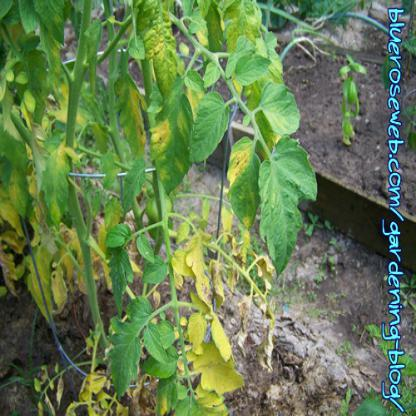tomato leaf yellow virus: (254, 134, 319, 283), (151, 71, 203, 205), (102, 290, 158, 399), (216, 130, 265, 225), (43, 135, 75, 234), (255, 80, 299, 133)
